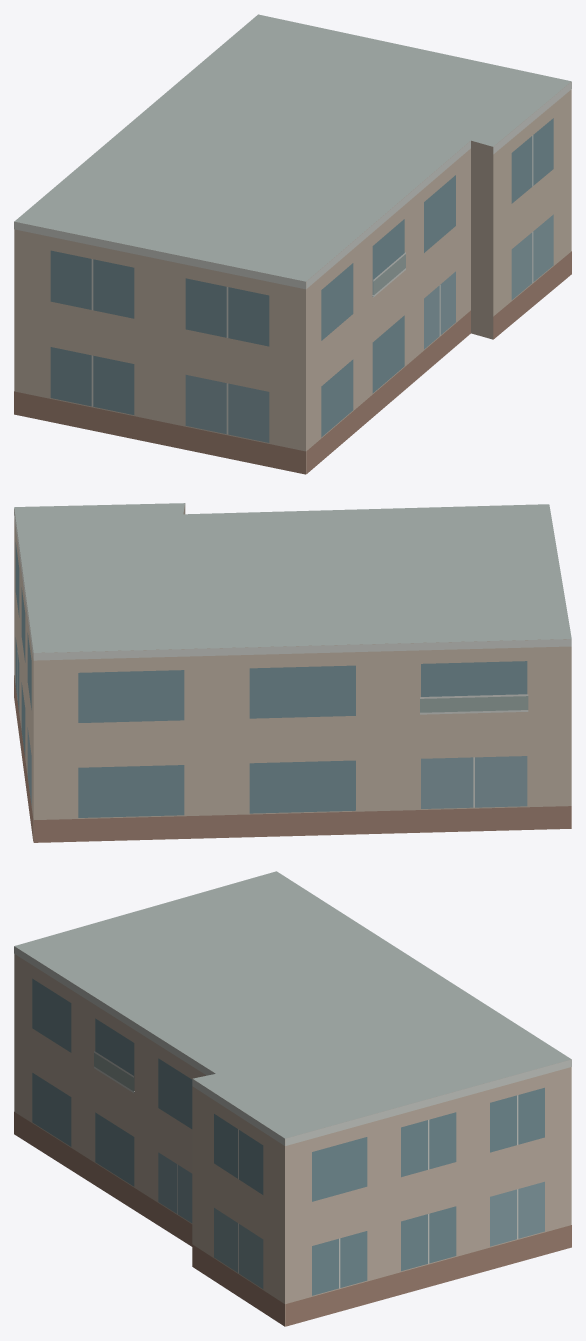
File: survey-upis-32932361.glb
3 views of the same model, one above another, from view 1: azimuth 30°, elevation 25°; view 2: azimuth 150°, elevation 25°; view 3: azimuth 270°, elevation 25° (orthographic). The views are drawn at different scales.
Parts seen in each view (by area): view 1: survey-upis-32932361.tmp; view 2: survey-upis-32932361.tmp; view 3: survey-upis-32932361.tmp.
Part boxes in pixels (<box>): survey-upis-32932361.tmp: <box>14,14,571,474</box>; survey-upis-32932361.tmp: <box>14,503,571,842</box>; survey-upis-32932361.tmp: <box>14,871,571,1326</box>.
Size of the model in its own units: 18.62 by 6.1 by 16.4.
